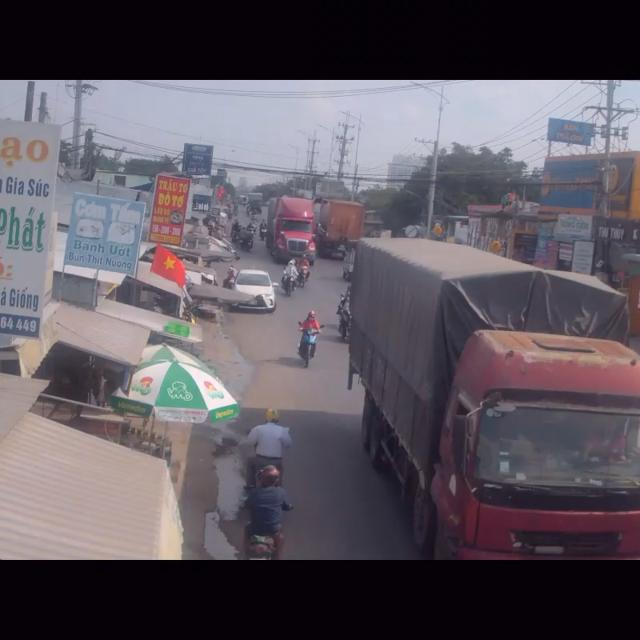car: (229, 266, 278, 316)
motorbike: (244, 468, 289, 560), (246, 406, 294, 481), (299, 311, 322, 368), (338, 291, 352, 340), (283, 258, 297, 295)
truck: (355, 234, 640, 563)
